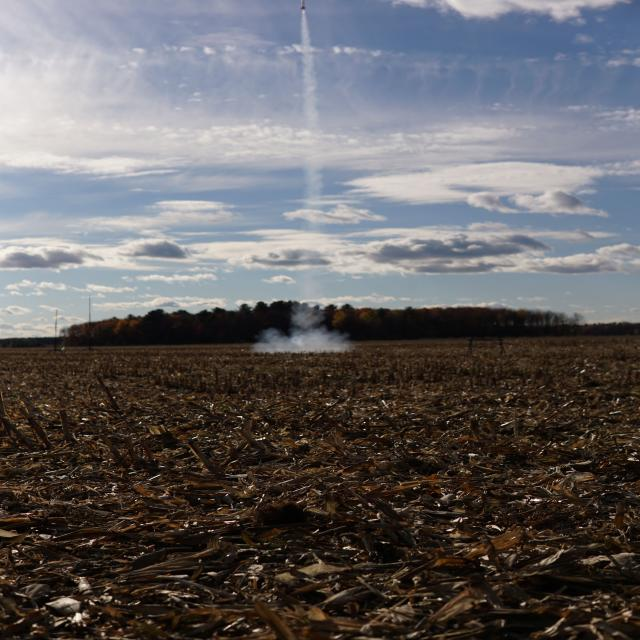Rocket: (300, 0, 307, 9)
